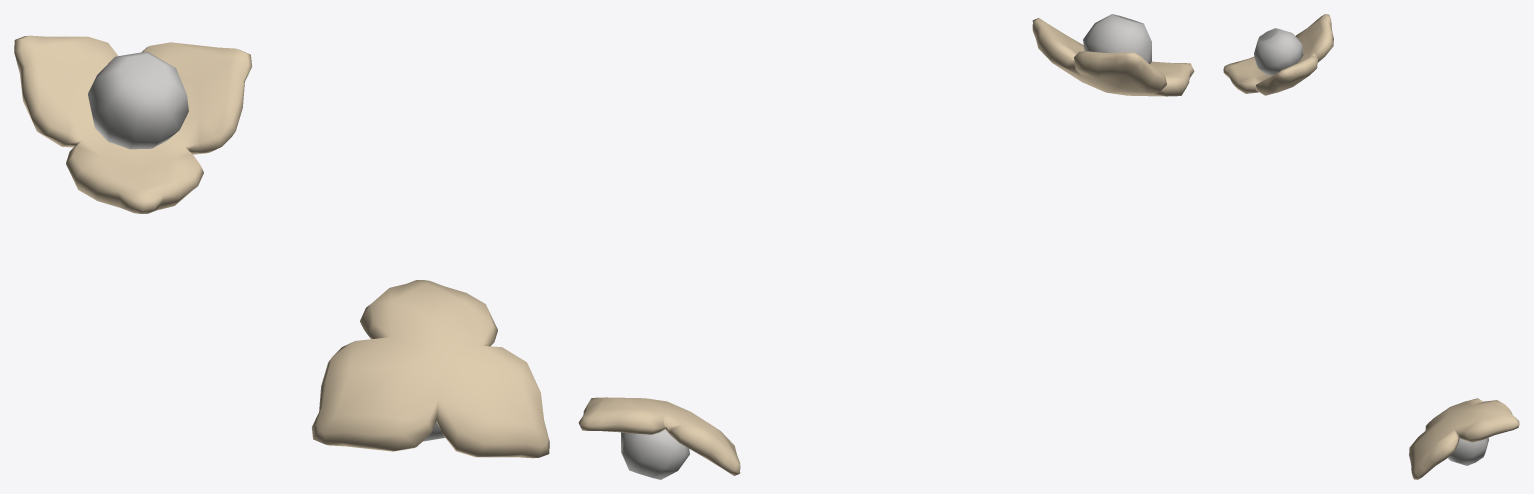
The model's file is S12_Plant04_L2_Ear.glb.
3 views of the same model, side by side, from view 1: azimuth 30°, elevation 25°; view 2: azimuth 150°, elevation 25°; view 3: azimuth 270°, elevation 25° (orthographic). The views are drawn at different scales.
Visible parts, largest first — view 1: S12_Plant04_L2_Ear__Ear_L__surface0__lod0, S12_Plant04_L2_Ear__Ear_R__surface1__lod0; view 2: S12_Plant04_L2_Ear__Ear_L__surface0__lod0, S12_Plant04_L2_Ear__Ear_R__surface1__lod0; view 3: S12_Plant04_L2_Ear__Ear_L__surface0__lod0, S12_Plant04_L2_Ear__Ear_R__surface1__lod0.
Boxes of the visible parts, x1,y1,x2,y2 form: S12_Plant04_L2_Ear__Ear_L__surface0__lod0: [14, 35, 252, 213]; S12_Plant04_L2_Ear__Ear_R__surface1__lod0: [311, 280, 549, 458]; S12_Plant04_L2_Ear__Ear_L__surface0__lod0: [1032, 14, 1194, 96]; S12_Plant04_L2_Ear__Ear_R__surface1__lod0: [578, 397, 740, 479]; S12_Plant04_L2_Ear__Ear_L__surface0__lod0: [1223, 14, 1333, 95]; S12_Plant04_L2_Ear__Ear_R__surface1__lod0: [1409, 398, 1519, 479].
Size of the model in its own units: 146 by 137 by 116.
